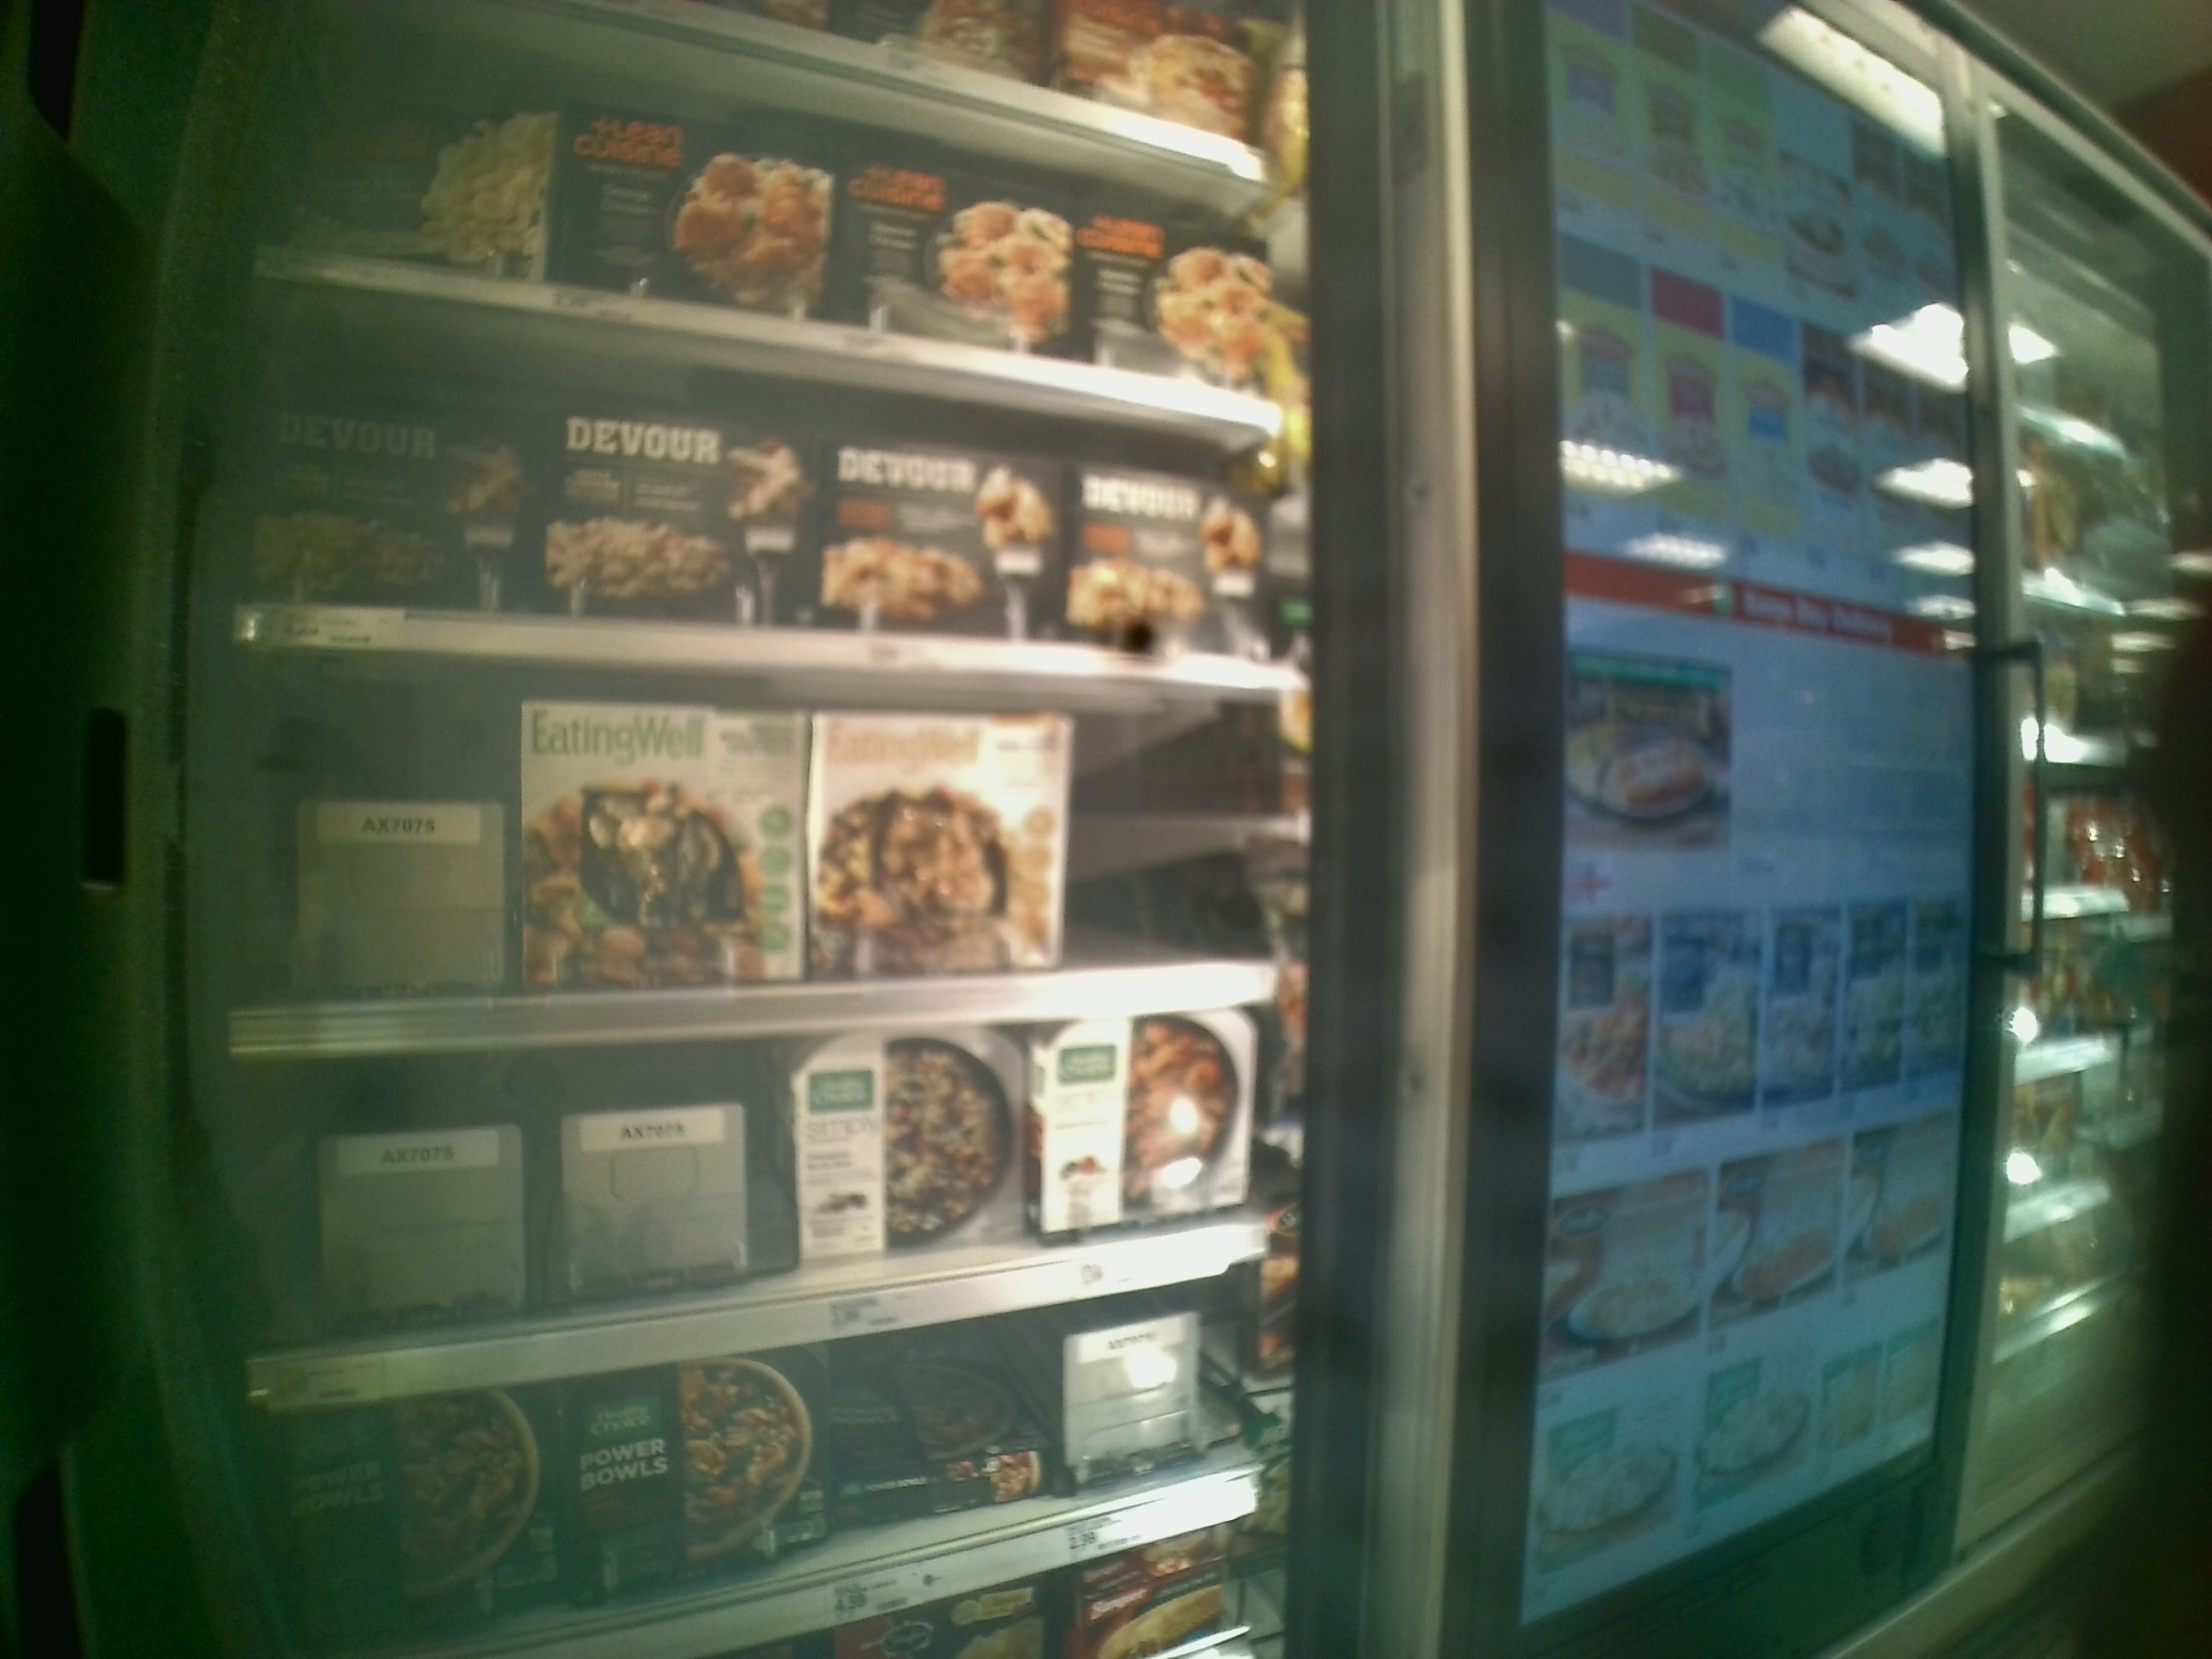shelf: (216, 638, 1310, 1047), (230, 261, 1298, 676)
